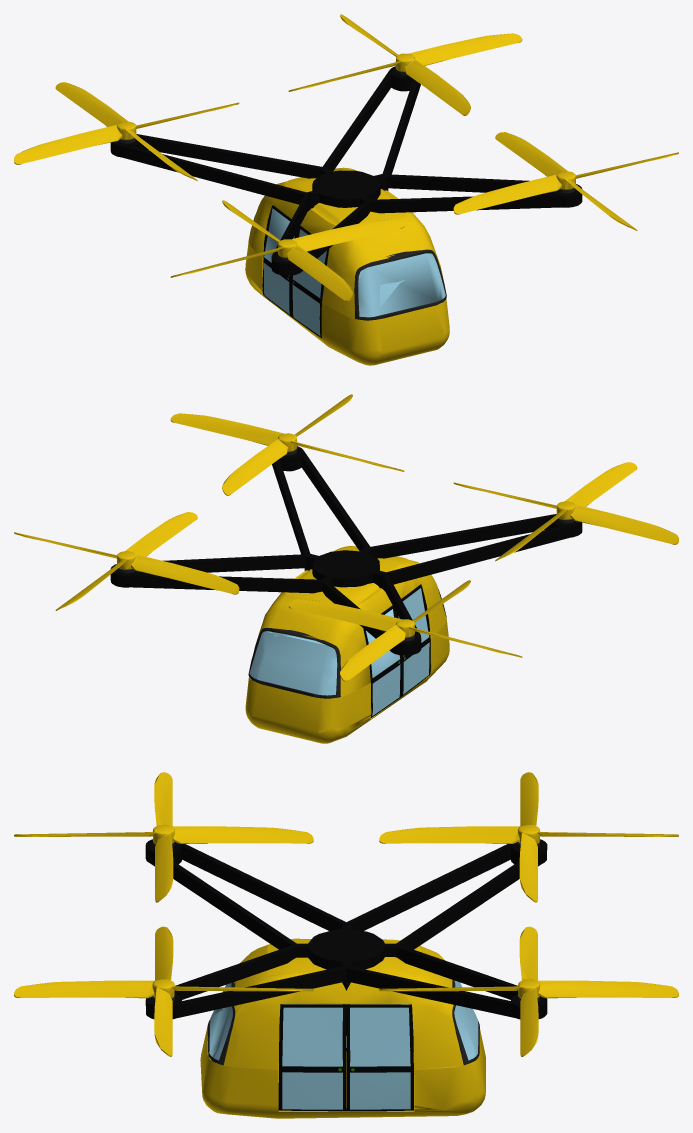
Rendered from taxi.dae.
3 renders of one model, top to bottom at view 1: azimuth 30°, elevation 25°; view 2: azimuth 150°, elevation 25°; view 3: azimuth 270°, elevation 25°, orthographic. The views are drawn at different scales.
Parts seen in each view (by area): view 1: Aerotaxi.002; view 2: Aerotaxi.002; view 3: Aerotaxi.002.
Boxes of the visible parts, bbox=[...] form: Aerotaxi.002: bbox=[14, 14, 678, 365]; Aerotaxi.002: bbox=[14, 394, 678, 743]; Aerotaxi.002: bbox=[14, 772, 678, 1118].
Bounding box in the file's own units: 9.1 × 9.1 × 2.87.
